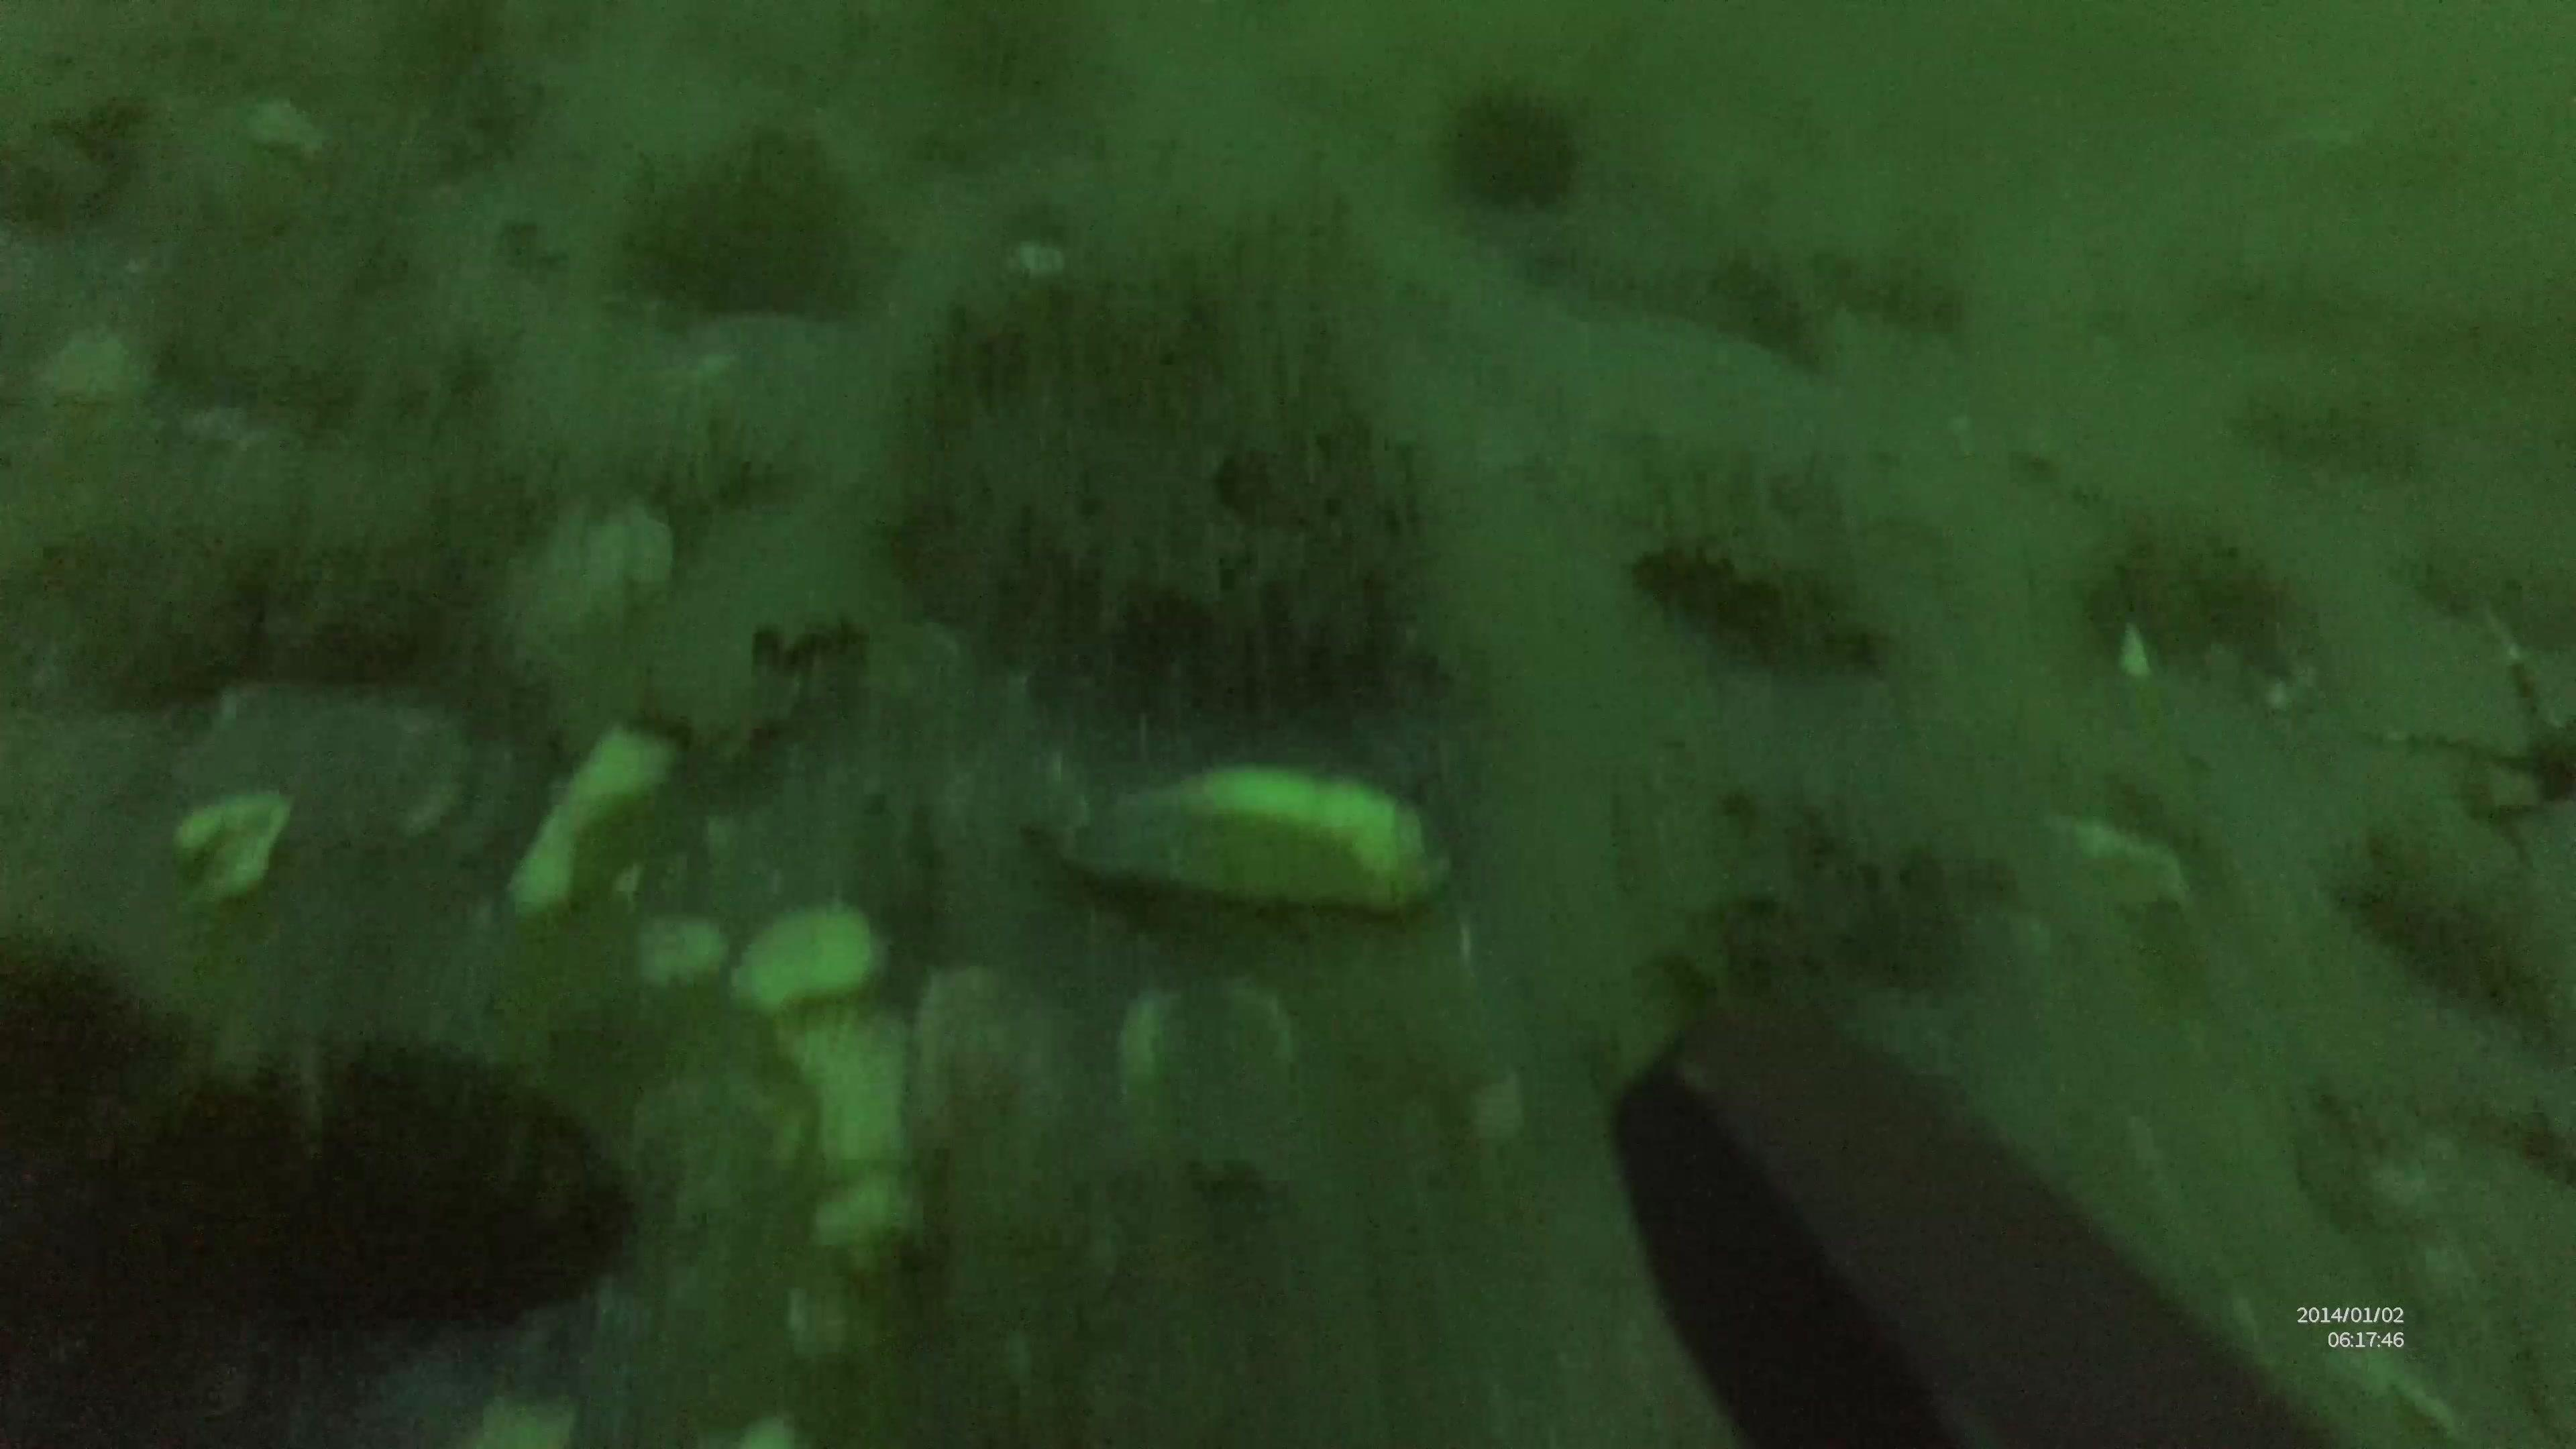echinus: (1444, 81, 1583, 214)
